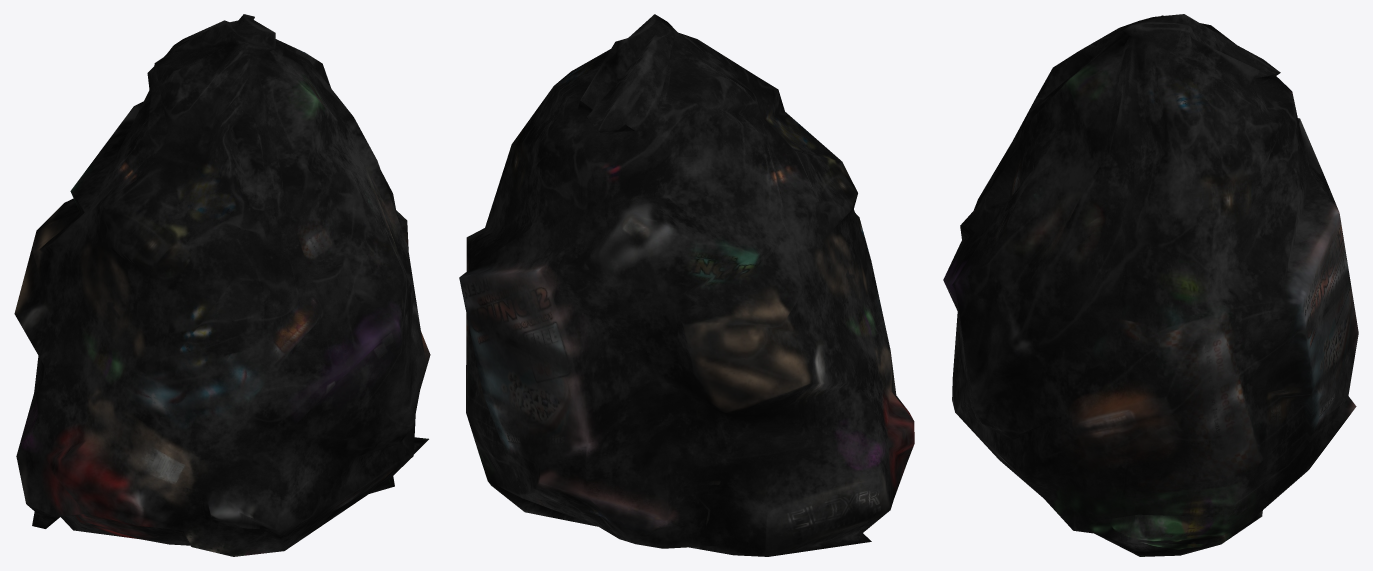
The model's file is trashbag_opt.gltf.
3 renders of one model, left to right at view 1: azimuth 30°, elevation 25°; view 2: azimuth 150°, elevation 25°; view 3: azimuth 270°, elevation 25°, orthographic. The views are drawn at different scales.
Parts seen in each view (by area): view 1: trashbag; view 2: trashbag; view 3: trashbag.
Boxes of the visible parts, x1=… form: trashbag: x1=14, y1=14, x2=430, y2=556; trashbag: x1=459, y1=14, x2=914, y2=556; trashbag: x1=943, y1=14, x2=1358, y2=556.
Size of the model in its own units: 0.5186 by 0.5684 by 0.4629.
1 material, 1 textured.
